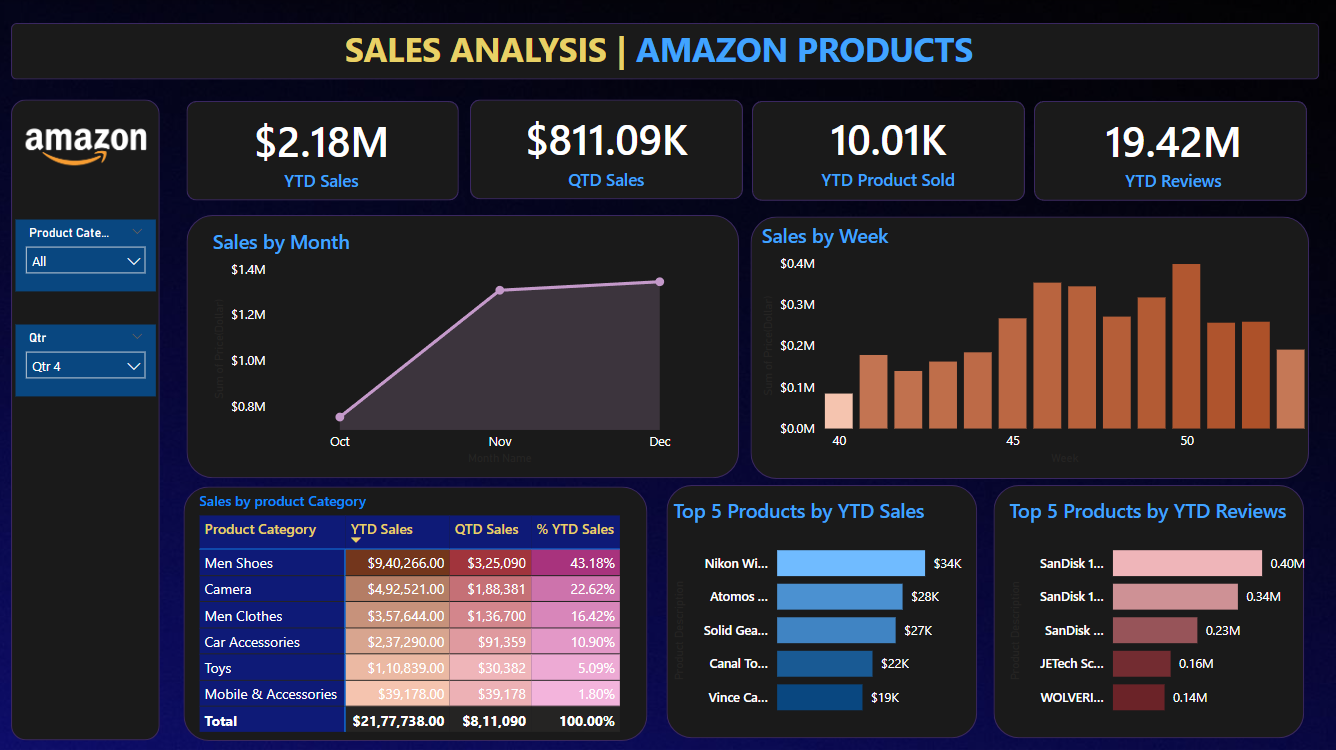

The page's visual inventory and layout, read from the dashboard file:
{"tool":"powerbi","page":{"name":"Page 1","canvas":[1280,720],"ordinal":0},"visuals":[{"type":"shape","box":[451.4,95.5,260.4,95.5],"z":0,"group":"g1"},{"type":"shape","box":[15,22.5,1249.4,54.3],"z":0},{"type":"shape","box":[181.7,97.4,260,95],"z":1000,"group":"g1"},{"type":"textbox","box":[327.8,20.6,625.6,56.2],"z":1000},{"type":"card","fields":{"Values":["Amazon_Data.QTD Sales"]},"box":[470.1,95.5,222.9,95.5],"z":2000,"group":"g1"},{"type":"shape","box":[15,96,142,612],"z":2000},{"type":"card","fields":{"Values":["Amazon_Data.YTD Sales"]},"box":[179.8,97.4,260.4,95.5],"z":3000,"group":"g1"},{"type":"group","id":"g1","title":"Group 1","box":[179.8,95.5,1071.5,97.4],"z":3000},{"type":"shape","box":[721.2,97.4,260.4,95.5],"z":4000,"group":"g1"},{"type":"shape","box":[181.9,206.9,527.8,251.4],"z":4000},{"type":"shape","box":[990.9,97.4,260.4,95.5],"z":5000,"group":"g1"},{"type":"areaChart","title":"Sales by Month","fields":{"Category":["Date Table.Month Name"],"Y":["Sum(Amazon_Data.Price(Dollar))"]},"box":[201.9,218.9,498.1,230.2],"z":5000},{"type":"card","fields":{"Values":["Amazon_Data.YTD Product Sold"]},"box":[739.9,95.5,222.9,95.5],"z":6000,"group":"g1"},{"type":"shape","box":[720.8,207.5,534,250.9],"z":6000},{"type":"card","fields":{"Values":["Amazon_Data.YTD Reviews"]},"box":[1011.5,97.4,222.9,95.5],"z":7000,"group":"g1"},{"type":"columnChart","title":"Sales by Week","fields":{"Category":["Date Table.Week"],"Y":["Sum(Amazon_Data.Price(Dollar))"]},"box":[726.4,213.2,528.3,235.8],"z":7000},{"type":"shape","box":[179,465,443,243],"z":8000},{"type":"pivotTable","title":"Sales by product Category","fields":{"Rows":["Amazon_Data.Product Category"],"Values":["Amazon_Data.YTD Sales1","Amazon_Data.QTD Sales","Amazon_Data.YTD Sales"]},"box":[188.9,469.7,418.2,238.4],"z":9000},{"type":"shape","box":[640.3,464.5,296.8,241.9],"z":10000},{"type":"shape","box":[953.2,464.5,296.8,241.9],"z":11000},{"type":"clusteredBarChart","title":"Top 5 Products by YTD Sales","fields":{"Category":["Amazon_Data.Product Description"],"Y":["Amazon_Data.YTD Sales"]},"box":[641.1,475.6,295.6,222.2],"z":12000},{"type":"clusteredBarChart","title":"Top 5 Products by YTD Reviews","fields":{"Category":["Amazon_Data.Product Description"],"Y":["Amazon_Data.YTD Reviews"]},"box":[962.4,475.3,297.8,222.6],"z":13000},{"type":"slicer","fields":{"Values":["Amazon_Data.Product Category"]},"box":[18.6,210,134.3,68.6],"z":14000},{"type":"slicer","fields":{"Values":["Date Table.Qtr"]},"box":[18.6,311.4,134.3,68.6],"z":15000},{"type":"image","box":[22.9,117.1,127.1,54.3],"z":16000}]}

Visuals, with their boxes in screenshot pixels (x1, y1, x2, y2), scaled from the page's 1280x720 canvas onto the 1336x750 screenshot:
shape: 471:99:743:199
shape: 16:23:1320:80
shape: 190:101:461:200
textbox: 342:21:995:80
card - Amazon_Data.QTD Sales: 491:99:723:199
shape: 16:100:164:738
card - Amazon_Data.YTD Sales: 188:101:459:201
"Group 1" group: 188:99:1306:201
shape: 753:101:1025:201
shape: 190:216:741:477
shape: 1034:101:1306:201
"Sales by Month" areaChart: 211:228:731:468
card - Amazon_Data.YTD Product Sold: 772:99:1005:199
shape: 752:216:1310:478
card - Amazon_Data.YTD Reviews: 1056:101:1288:201
"Sales by Week" columnChart: 758:222:1310:468
shape: 187:484:649:738
"Sales by product Category" pivotTable: 197:489:634:738
shape: 668:484:978:736
shape: 995:484:1305:736
"Top 5 Products by YTD Sales" clusteredBarChart: 669:495:978:727
"Top 5 Products by YTD Reviews" clusteredBarChart: 1005:495:1315:727
slicer - Amazon_Data.Product Category: 19:219:160:290
slicer - Date Table.Qtr: 19:324:160:396
image: 24:122:157:179
